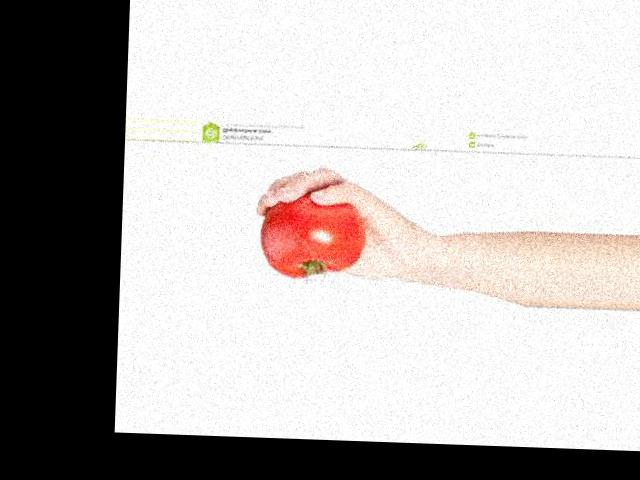tomato: (259, 191, 368, 281)
